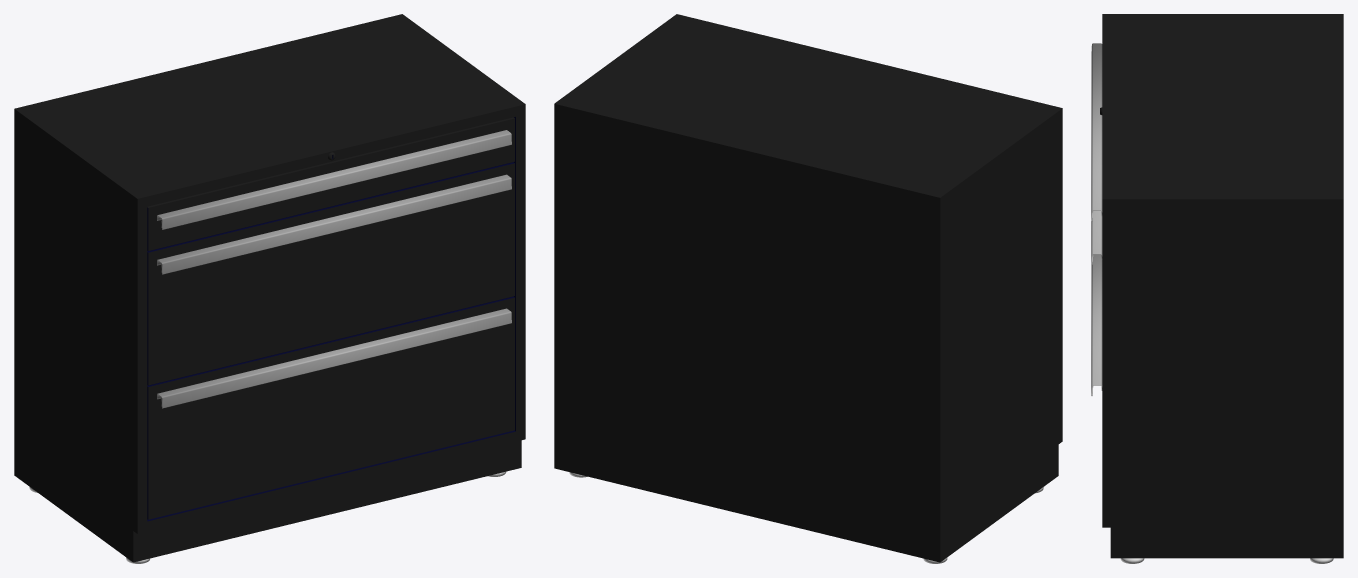
The model's file is drawer3Base40.glb.
The picture shows the model from 3 angles, left to right: view 1: azimuth 30°, elevation 25°; view 2: azimuth 150°, elevation 25°; view 3: azimuth 270°, elevation 25°; orthographic projection. The views are drawn at different scales.
Visible parts, largest first — view 1: shellFp, drawers, handlesFp; view 2: shellFp; view 3: shellFp, handlesFp.
Boxes of the visible parts, x1,y1,x2,y2 form: shellFp: (14,14,525,562); drawers: (147,117,514,519); handlesFp: (157,130,511,408); shellFp: (554,14,1062,562); shellFp: (1102,14,1343,558); handlesFp: (1091,43,1102,395).
Bounding box in the file's own units: 1.02 × 0.9382 × 0.5842.
4 materials, 1 textured.
